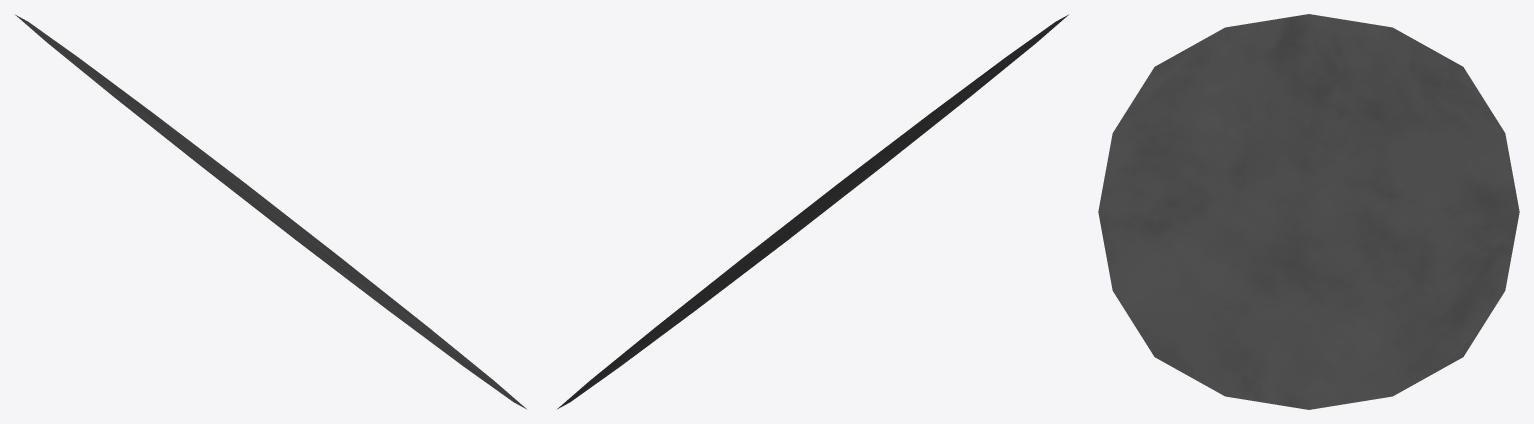
Rendered from World_WindowCircleGlass.fbx.
The picture shows the model from 3 angles, left to right: view 1: azimuth 30°, elevation 25°; view 2: azimuth 150°, elevation 25°; view 3: azimuth 270°, elevation 25°; orthographic projection. The views are drawn at different scales.
Parts seen in each view (by area): view 1: World_WindowCircleGlass; view 2: World_WindowCircleGlass; view 3: World_WindowCircleGlass.
Boxes of the visible parts, x1=… form: World_WindowCircleGlass: x1=15, y1=14, x2=526, y2=409; World_WindowCircleGlass: x1=557, y1=14, x2=1068, y2=409; World_WindowCircleGlass: x1=1098, y1=14, x2=1519, y2=409.
Bounding box in the file's own units: 1.84 × 1.84 × 2.6.
